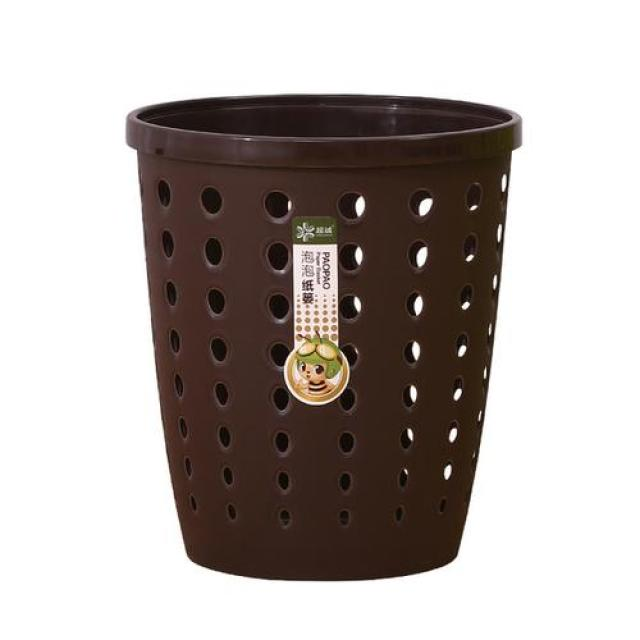dustbin: (116, 81, 529, 588)
